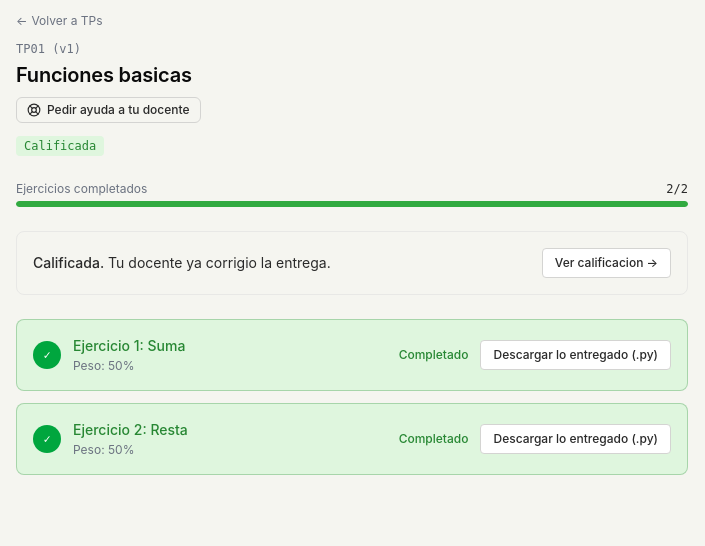
Scenario: descarga de lo entregado › sin artefacto para ese orden: aviso con palabras y nada descargado
This screenshot has width=705, height=546.
Expected: the list item with test id "ejercicio-item-1" is shown, [16, 319, 688, 391]
Click the button "Descargar lo entregado (.py)" in the row of "Suma". click: (576, 355)
box: [480, 340, 671, 370]
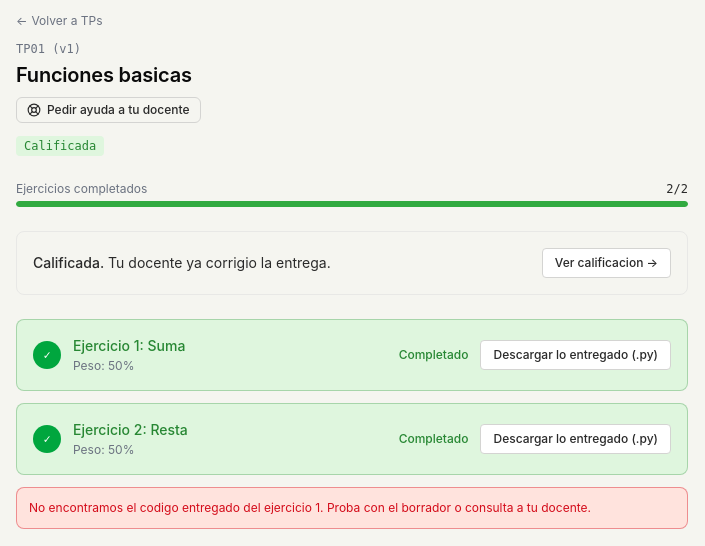
Result: the text with test id "descarga-error" is shown at [16, 487, 688, 529]
Result: the text with test id "descarga-error" shows "codigo entregado" at [29, 500, 591, 515]
